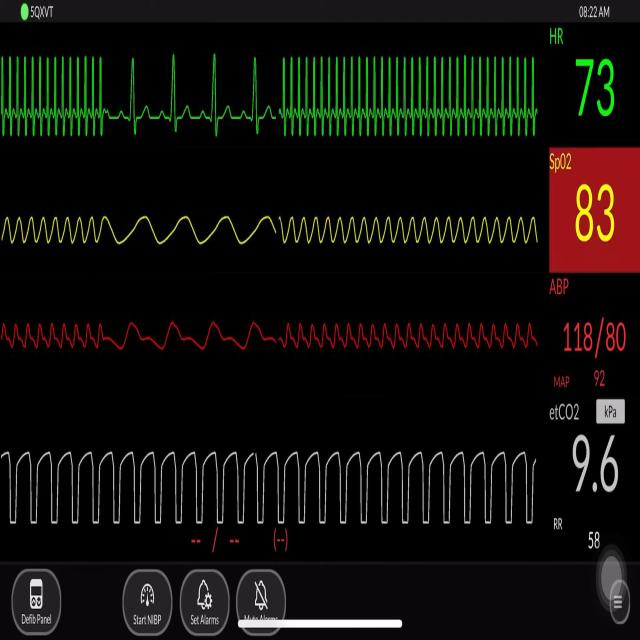danger: (285, 43, 534, 159), (0, 47, 105, 149)
